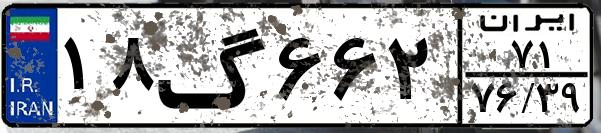1: (57, 26, 110, 100), (537, 27, 568, 80)
2: (385, 28, 445, 110)
3: (535, 70, 560, 125)
6: (270, 28, 330, 110), (330, 28, 385, 110), (495, 70, 520, 125)
7: (508, 27, 537, 80), (470, 70, 495, 125)
8: (110, 28, 156, 98)
9: (560, 70, 590, 125)
گ: (156, 12, 270, 120)
